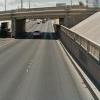Bridge: (1, 2, 85, 30)
